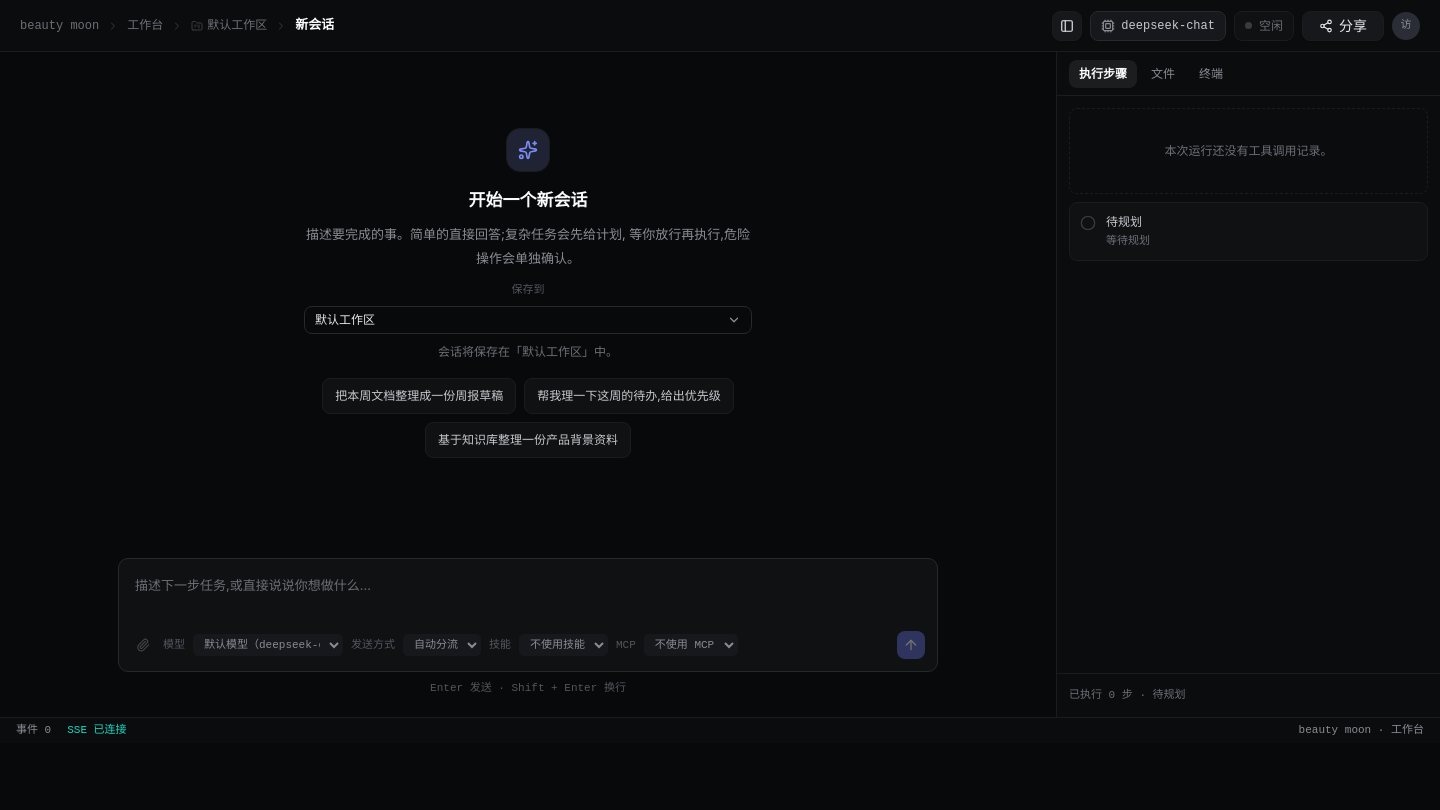
it: ChatPage 发送与流式 › 发送首条消息:先建会话再发消息,消息与状态出现在会话里
Expected: the text "会话将保存在「默认工作区」中。" is shown, [438,344,618,359]
Type "把本周日程整理成周报" into the text box labelled "描述下一步任务".
click(528, 597); type("把本周日程整理成周报")  # box [131,571,925,623]
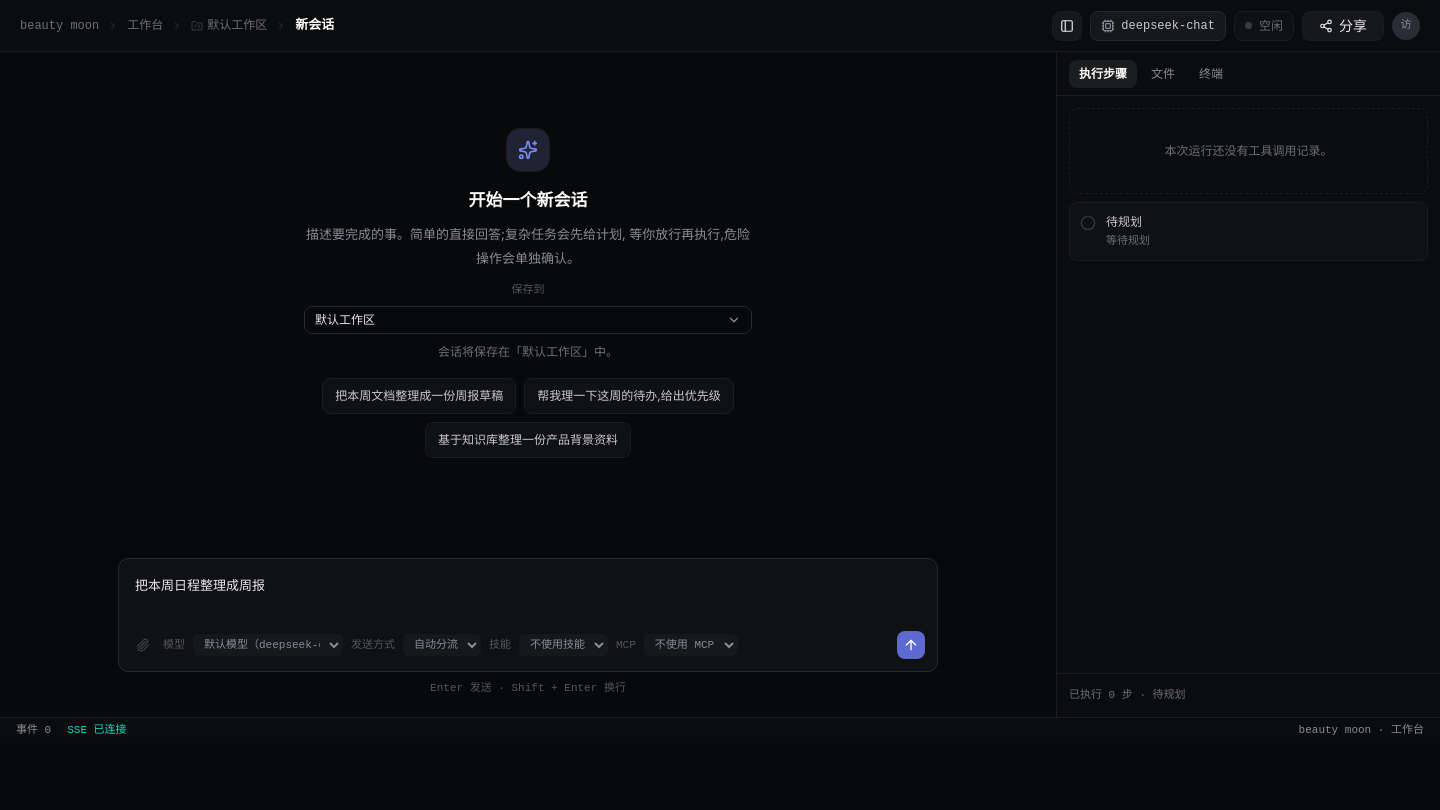
Click the button named "发送".
click(911, 645)  # box [897,631,925,659]
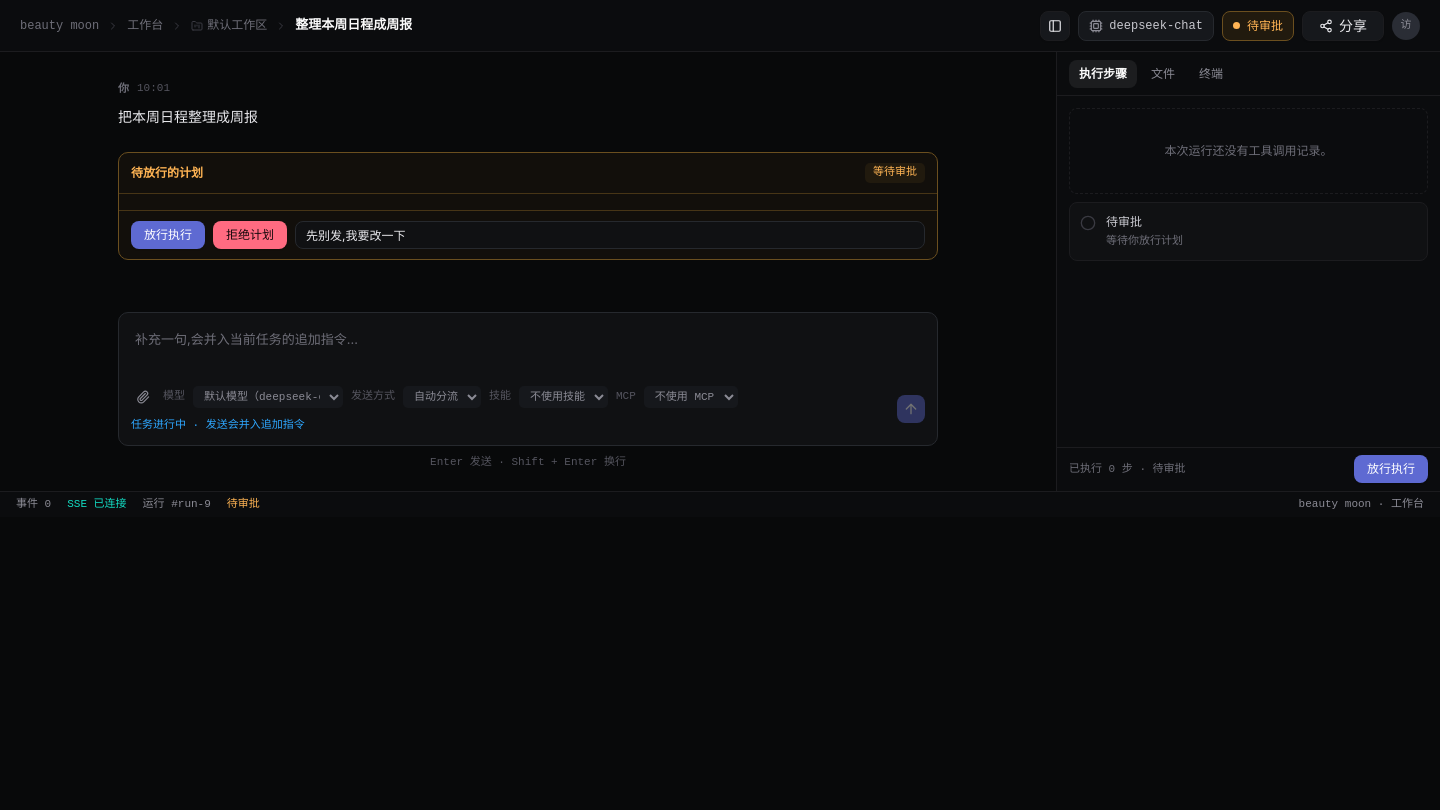
Expected: the text "待审批" is shown, [1222,10,1294,40]
